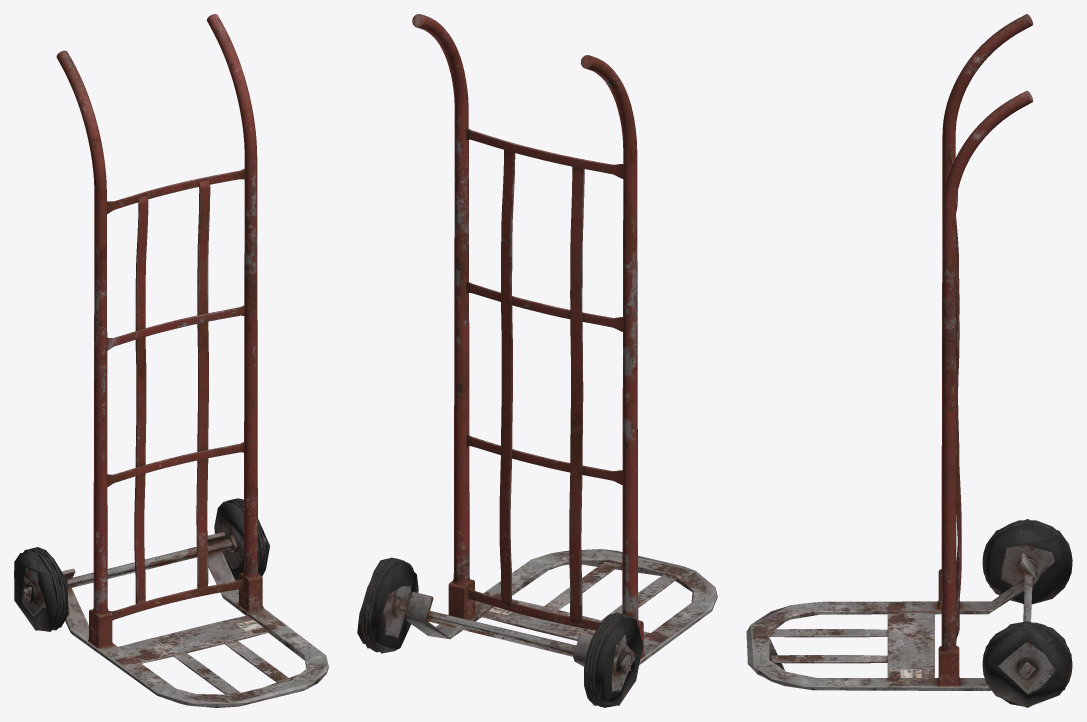
The model's file is hand_truck.glb.
3 renders of one model, left to right at view 1: azimuth 30°, elevation 25°; view 2: azimuth 150°, elevation 25°; view 3: azimuth 270°, elevation 25°, orthographic. The views are drawn at different scales.
Visible parts, largest first — view 1: hand_truck; view 2: hand_truck; view 3: hand_truck.
Boxes of the visible parts, x1,y1,x2,y2 form: hand_truck: (14, 14, 328, 707); hand_truck: (357, 14, 717, 707); hand_truck: (746, 14, 1072, 707).
Bounding box in the file's own units: 0.5933 × 1.4 × 0.6907.
1 material, 1 textured.
